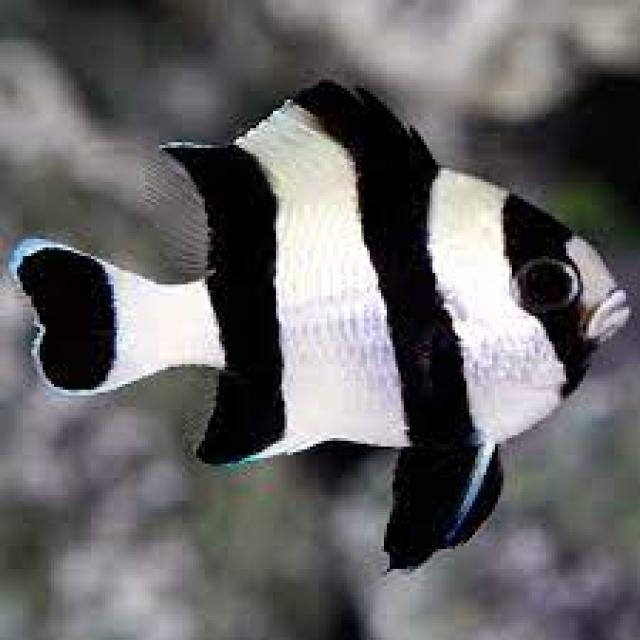Three_striped DasmselFish: (11, 77, 634, 580)
